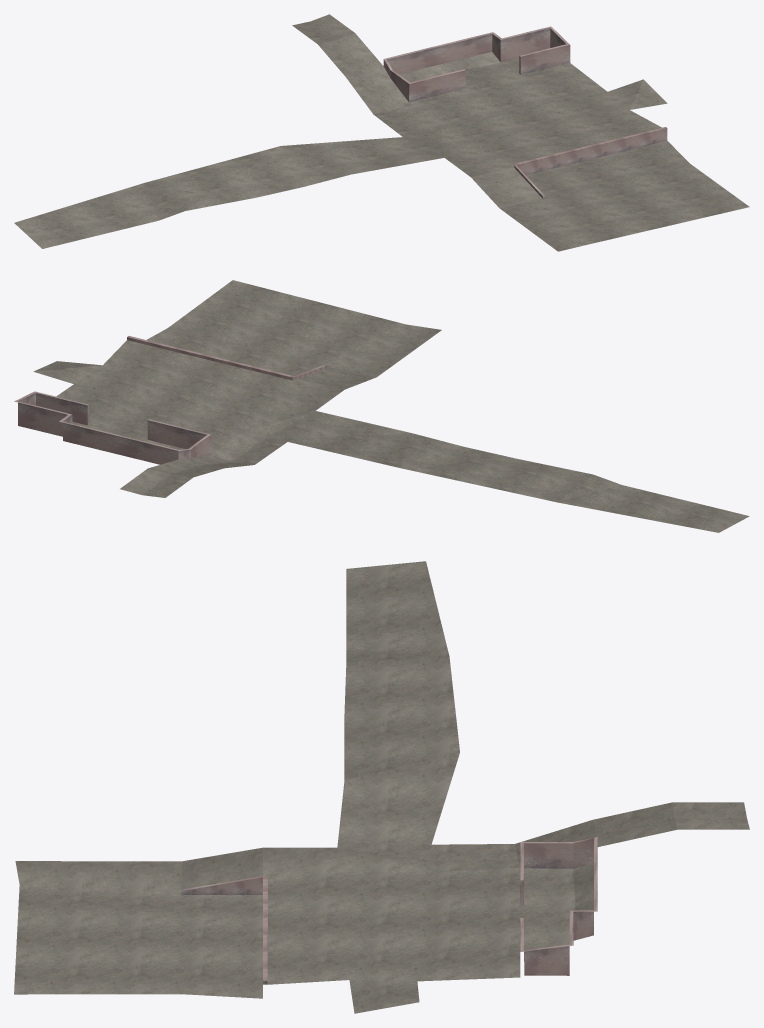
The model's file is lawnalley.obj.
3 renders of one model, top to bottom at view 1: azimuth 30°, elevation 25°; view 2: azimuth 150°, elevation 25°; view 3: azimuth 270°, elevation 25°, orthographic. The views are drawn at different scales.
Visible parts, largest first — view 1: lawnalley; view 2: lawnalley; view 3: lawnalley.
Part boxes in pixels (left/top/right/bottom): lawnalley: left=14, top=14, right=749, bottom=251; lawnalley: left=14, top=280, right=749, bottom=532; lawnalley: left=14, top=561, right=749, bottom=1013.
Bounding box in the file's own units: 132 × 8.01 × 95.33.
